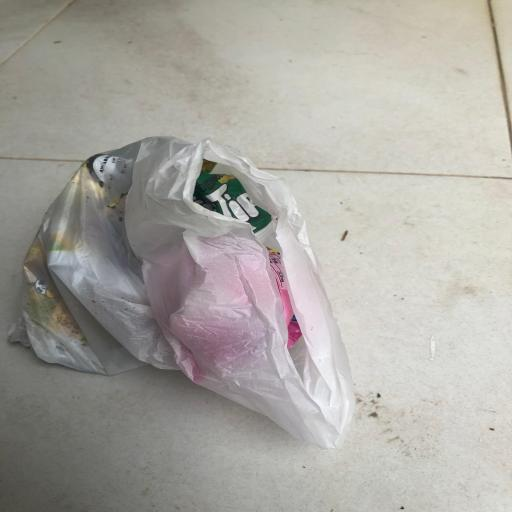waste: (8, 126, 372, 457)
